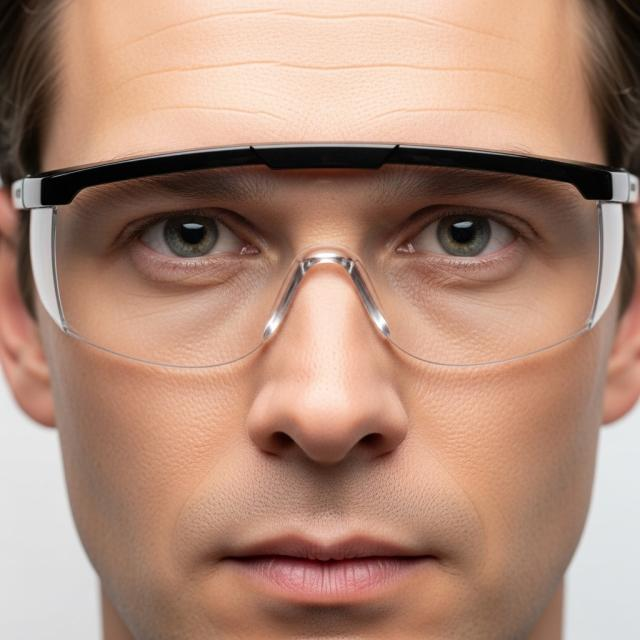oculos-epi: (13, 143, 637, 368)
